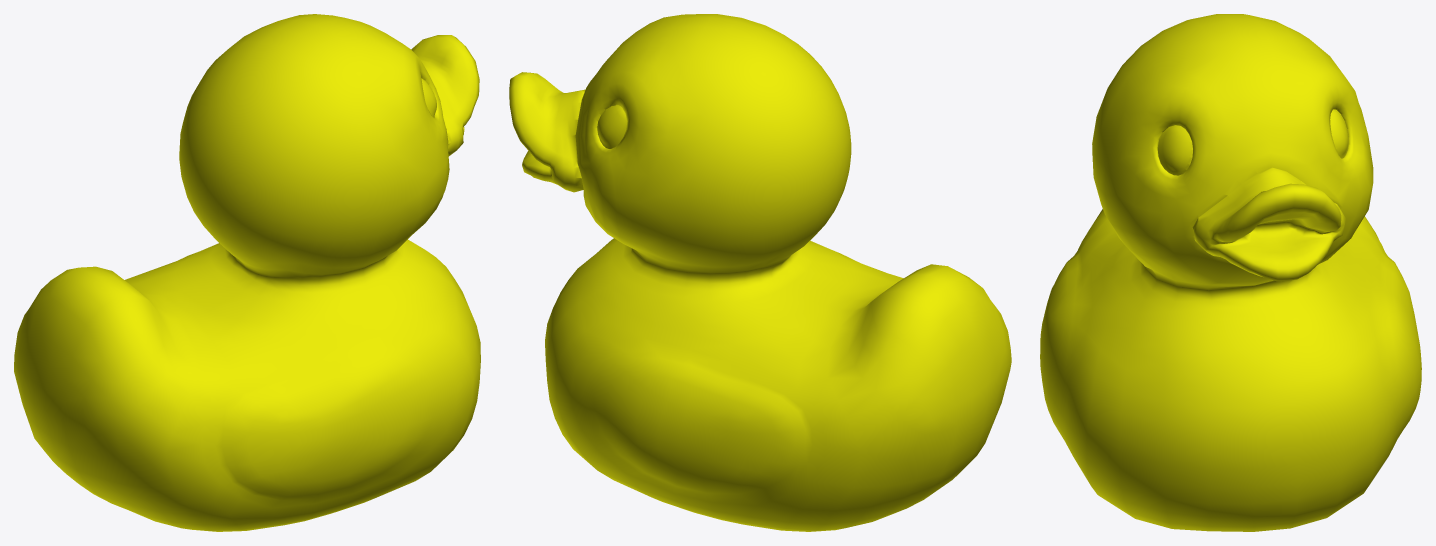
File: duck.gltf
The picture shows the model from 3 angles, left to right: view 1: azimuth 30°, elevation 25°; view 2: azimuth 150°, elevation 25°; view 3: azimuth 270°, elevation 25°; orthographic projection. The views are drawn at different scales.
Visible parts, largest first — view 1: LOD3spShape; view 2: LOD3spShape; view 3: LOD3spShape.
Boxes of the visible parts, x1,y1,x2,y2 form: LOD3spShape: [14, 14, 480, 531]; LOD3spShape: [509, 14, 1011, 531]; LOD3spShape: [1040, 14, 1421, 531].
Bounding box in the file's own units: 4.96 × 4.62 × 3.46.
